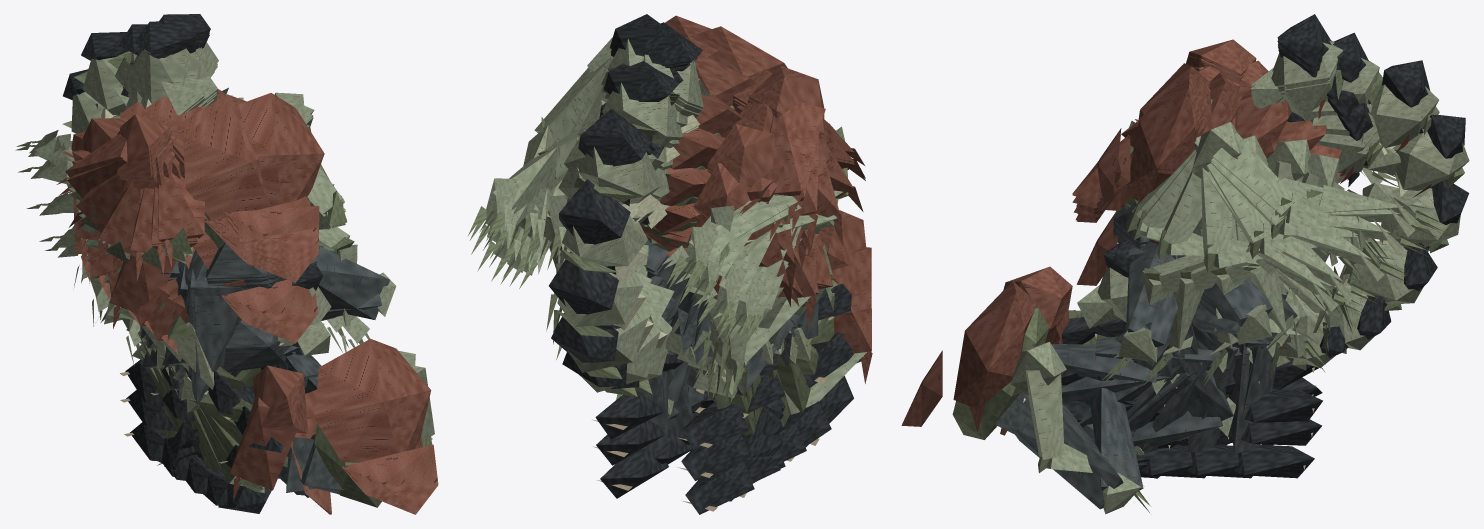
Rendered from runner_baked_poses_far.glb.
The picture shows the model from 3 angles, left to right: view 1: azimuth 30°, elevation 25°; view 2: azimuth 150°, elevation 25°; view 3: azimuth 270°, elevation 25°; orthographic projection. The views are drawn at different scales.
Parts seen in each view (by area): view 1: idle_00, run_03, run_09, idle_01, death_07, run_06, death_02, run_02, run_01, run_07, death_03, death_01 (+14 smaller); view 2: run_03, death_02, death_03, death_04, death_01, run_09, death_05, idle_00, attack_00, run_06, idle_01, run_07 (+15 smaller); view 3: idle_00, run_09, death_07, death_06, death_02, death_03, run_06, death_04, run_07, idle_01, death_05, run_08 (+15 smaller).
Boxes of the visible parts, left/top/right/bottom form: idle_00: left=150, top=265, right=438, bottom=514; run_03: left=46, top=21, right=346, bottom=505; run_09: left=145, top=14, right=324, bottom=479; idle_01: left=99, top=232, right=318, bottom=495; death_07: left=147, top=175, right=396, bottom=461; run_06: left=96, top=42, right=334, bottom=452; death_02: left=74, top=32, right=288, bottom=470; run_02: left=59, top=37, right=347, bottom=494; run_01: left=69, top=40, right=345, bottom=476; run_07: left=130, top=39, right=318, bottom=415; death_03: left=62, top=69, right=198, bottom=466; death_01: left=81, top=24, right=287, bottom=478; run_03: left=635, top=22, right=831, bottom=461; death_02: left=546, top=93, right=795, bottom=501; death_03: left=553, top=128, right=791, bottom=501; death_04: left=549, top=167, right=798, bottom=447; death_01: left=553, top=54, right=808, bottom=483; run_09: left=500, top=14, right=864, bottom=374; death_05: left=551, top=197, right=805, bottom=419; idle_00: left=616, top=210, right=872, bottom=418; attack_00: left=467, top=136, right=784, bottom=467; run_06: left=556, top=106, right=851, bottom=498; idle_01: left=556, top=173, right=816, bottom=468; run_07: left=529, top=93, right=863, bottom=464; idle_00: left=901, top=239, right=1165, bottom=514; run_09: left=1076, top=17, right=1388, bottom=478; death_07: left=1102, top=119, right=1348, bottom=445; death_06: left=1142, top=255, right=1391, bottom=385; death_02: left=1131, top=60, right=1439, bottom=448; death_03: left=1123, top=114, right=1469, bottom=422; run_06: left=1061, top=123, right=1314, bottom=478; death_04: left=1220, top=143, right=1469, bottom=442; run_07: left=1088, top=50, right=1359, bottom=478; idle_01: left=1076, top=112, right=1339, bottom=448; death_05: left=1203, top=173, right=1437, bottom=442; run_08: left=1079, top=46, right=1380, bottom=478.
Bounding box in the file's own units: 0.955 × 1.49 × 1.75.
Materials: 1 (1 with a texture image).
